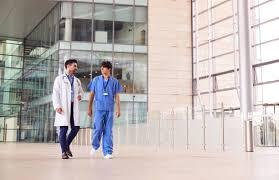without_mask: (66, 60, 81, 77), (101, 61, 114, 78)
